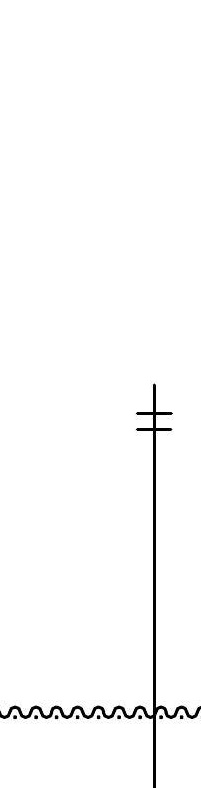115_buffer: (136, 412, 173, 431)
